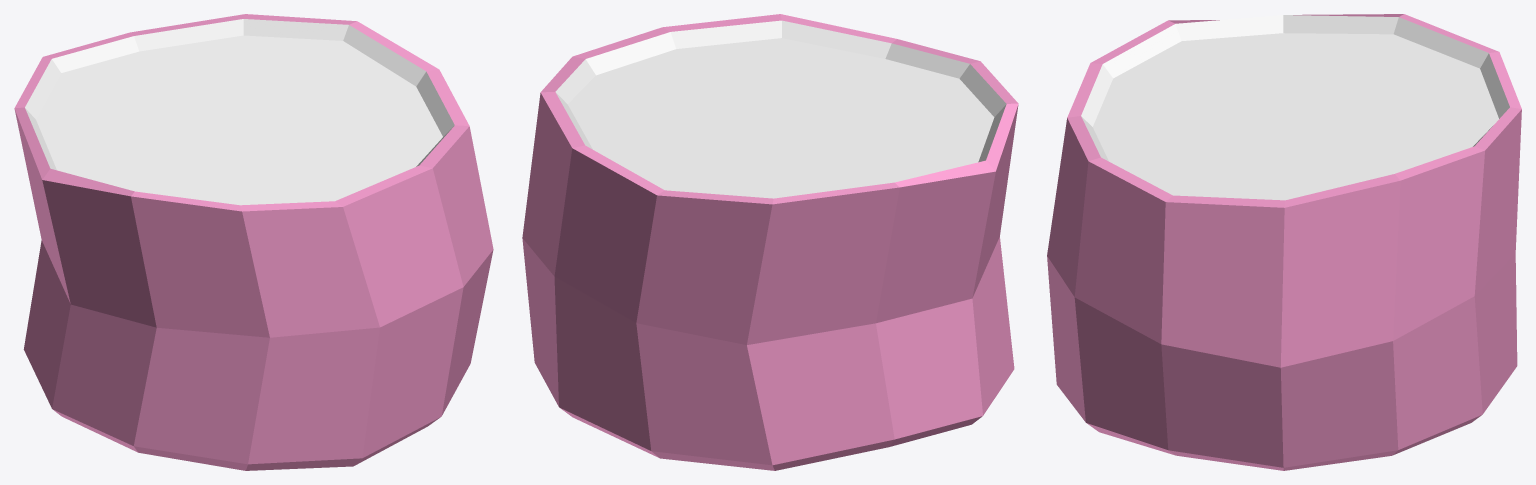
Rendered from Marshmallow.fbx.
The picture shows the model from 3 angles, left to right: view 1: azimuth 30°, elevation 25°; view 2: azimuth 150°, elevation 25°; view 3: azimuth 270°, elevation 25°; orthographic projection. The views are drawn at different scales.
Parts seen in each view (by area): view 1: Nubecita; view 2: Nubecita; view 3: Nubecita.
Boxes of the visible parts, x1,y1,x2,y2 form: Nubecita: (14, 14, 493, 470); Nubecita: (522, 14, 1018, 470); Nubecita: (1047, 14, 1521, 470).
Bounding box in the file's own units: 281 × 185 × 266.
